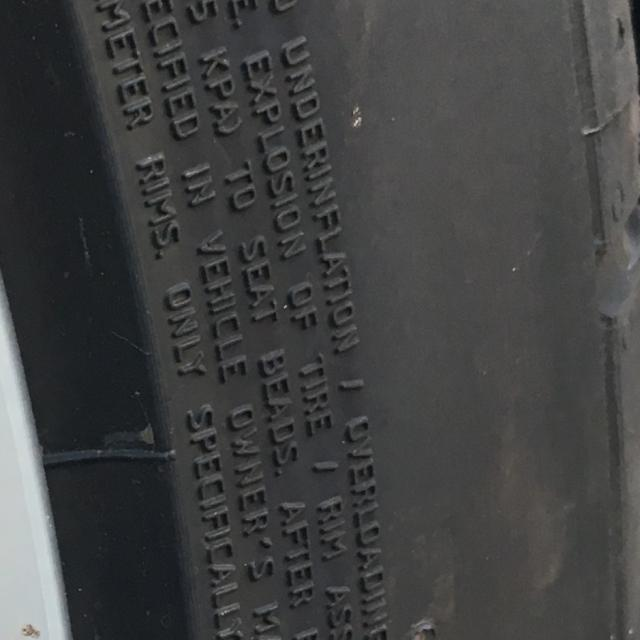Non-defective: (81, 11, 640, 640)
